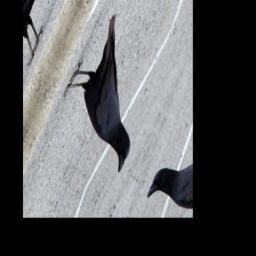Crow: (54, 4, 169, 175)
